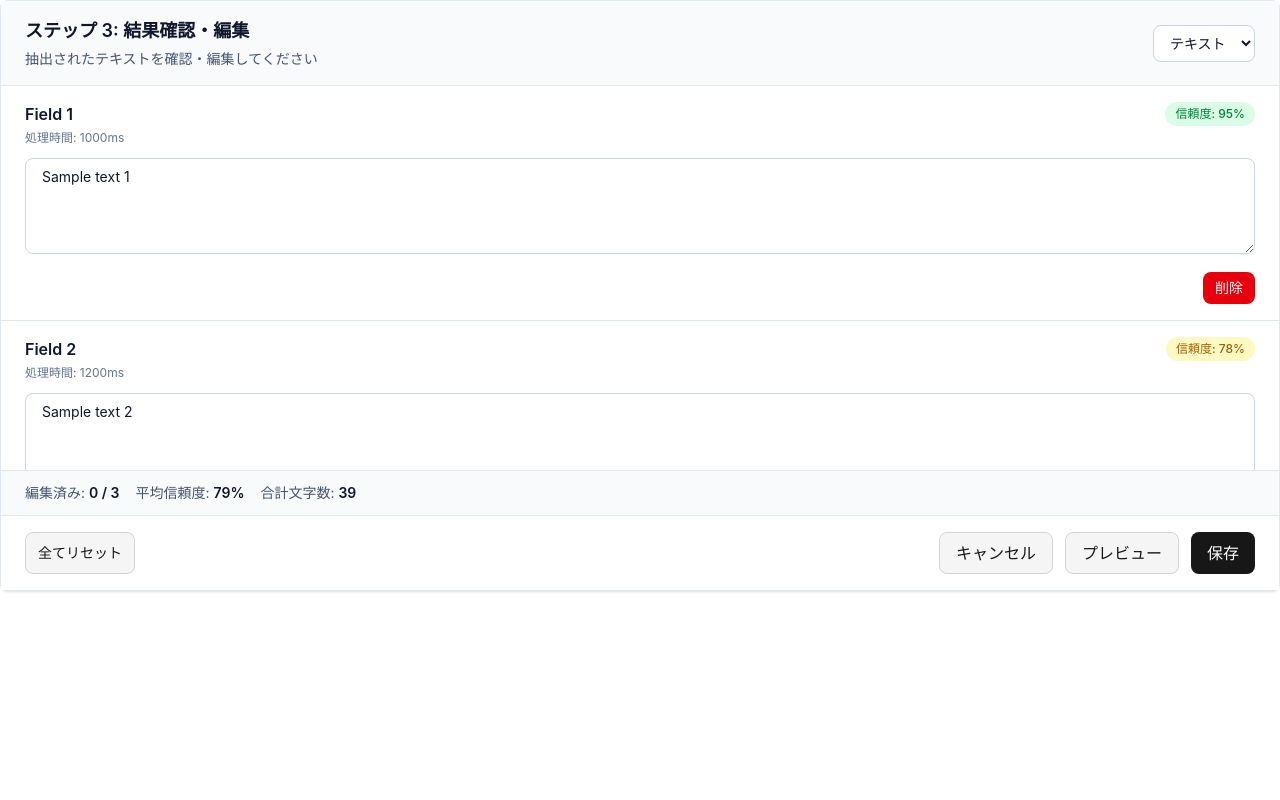
Scenario: ResultEditor Component › TC-006: フォーマット・プレビュー › TC-006-002: should toggle preview
プレビューボタンをクリック
Click the button "プレビュー": (1122, 553) [1065,532,1179,574]
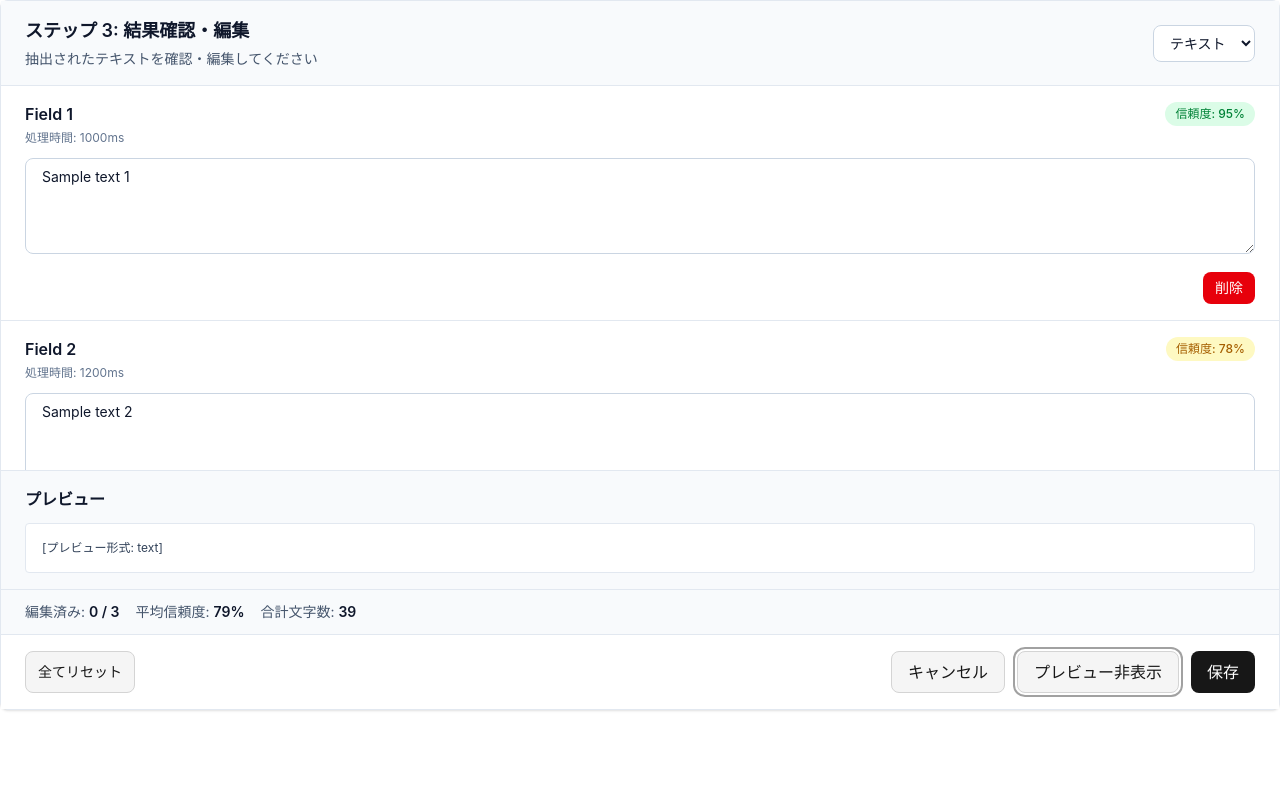
Now the button "プレビュー非表示" is shown, box [1017,651,1179,693]
